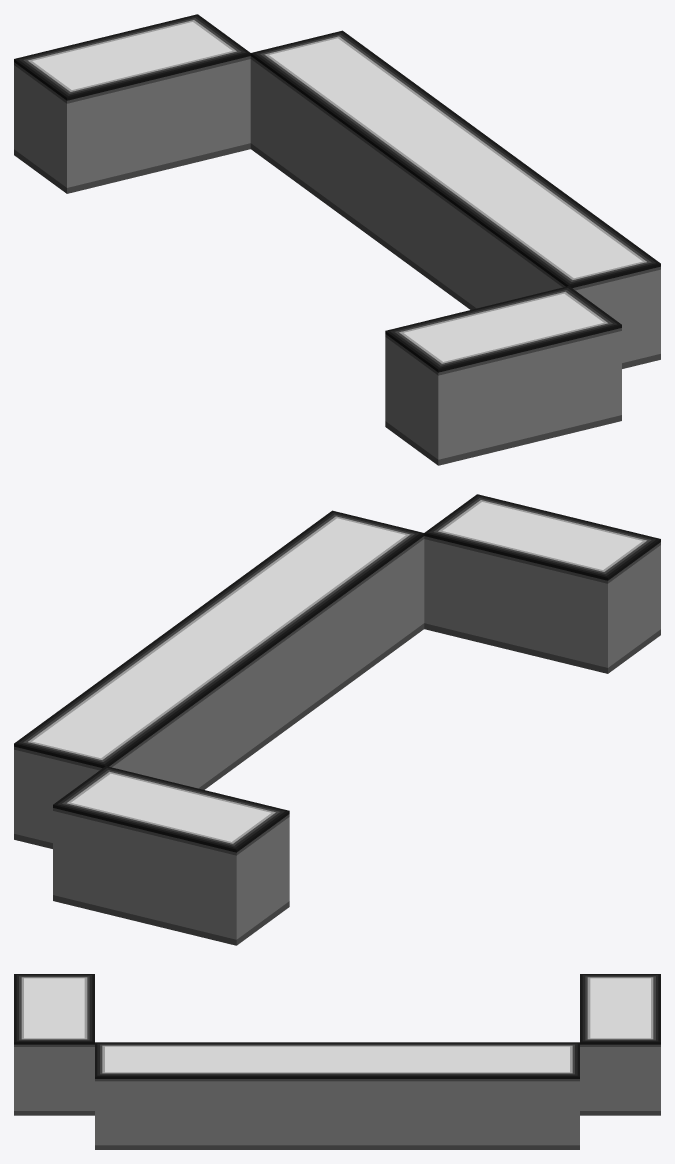
The model's file is Separador 2.obj.
3 renders of one model, top to bottom at view 1: azimuth 30°, elevation 25°; view 2: azimuth 150°, elevation 25°; view 3: azimuth 270°, elevation 25°, orthographic. The views are drawn at different scales.
Size of the model in its own units: 9.6 by 3.2 by 25.6.
1 material, 1 textured.
